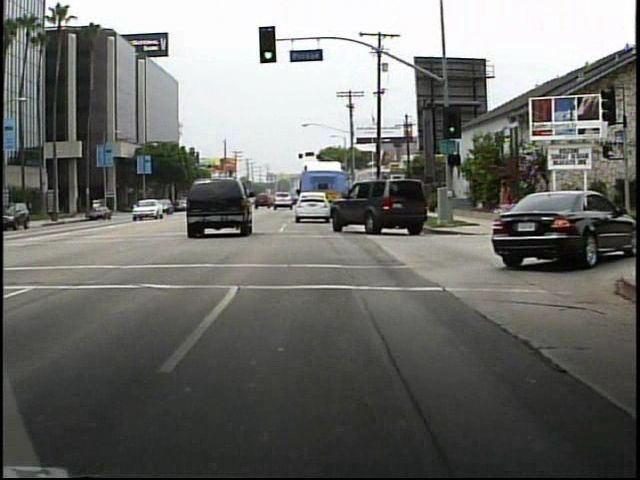person: (487, 175, 520, 239), (528, 170, 554, 228)
